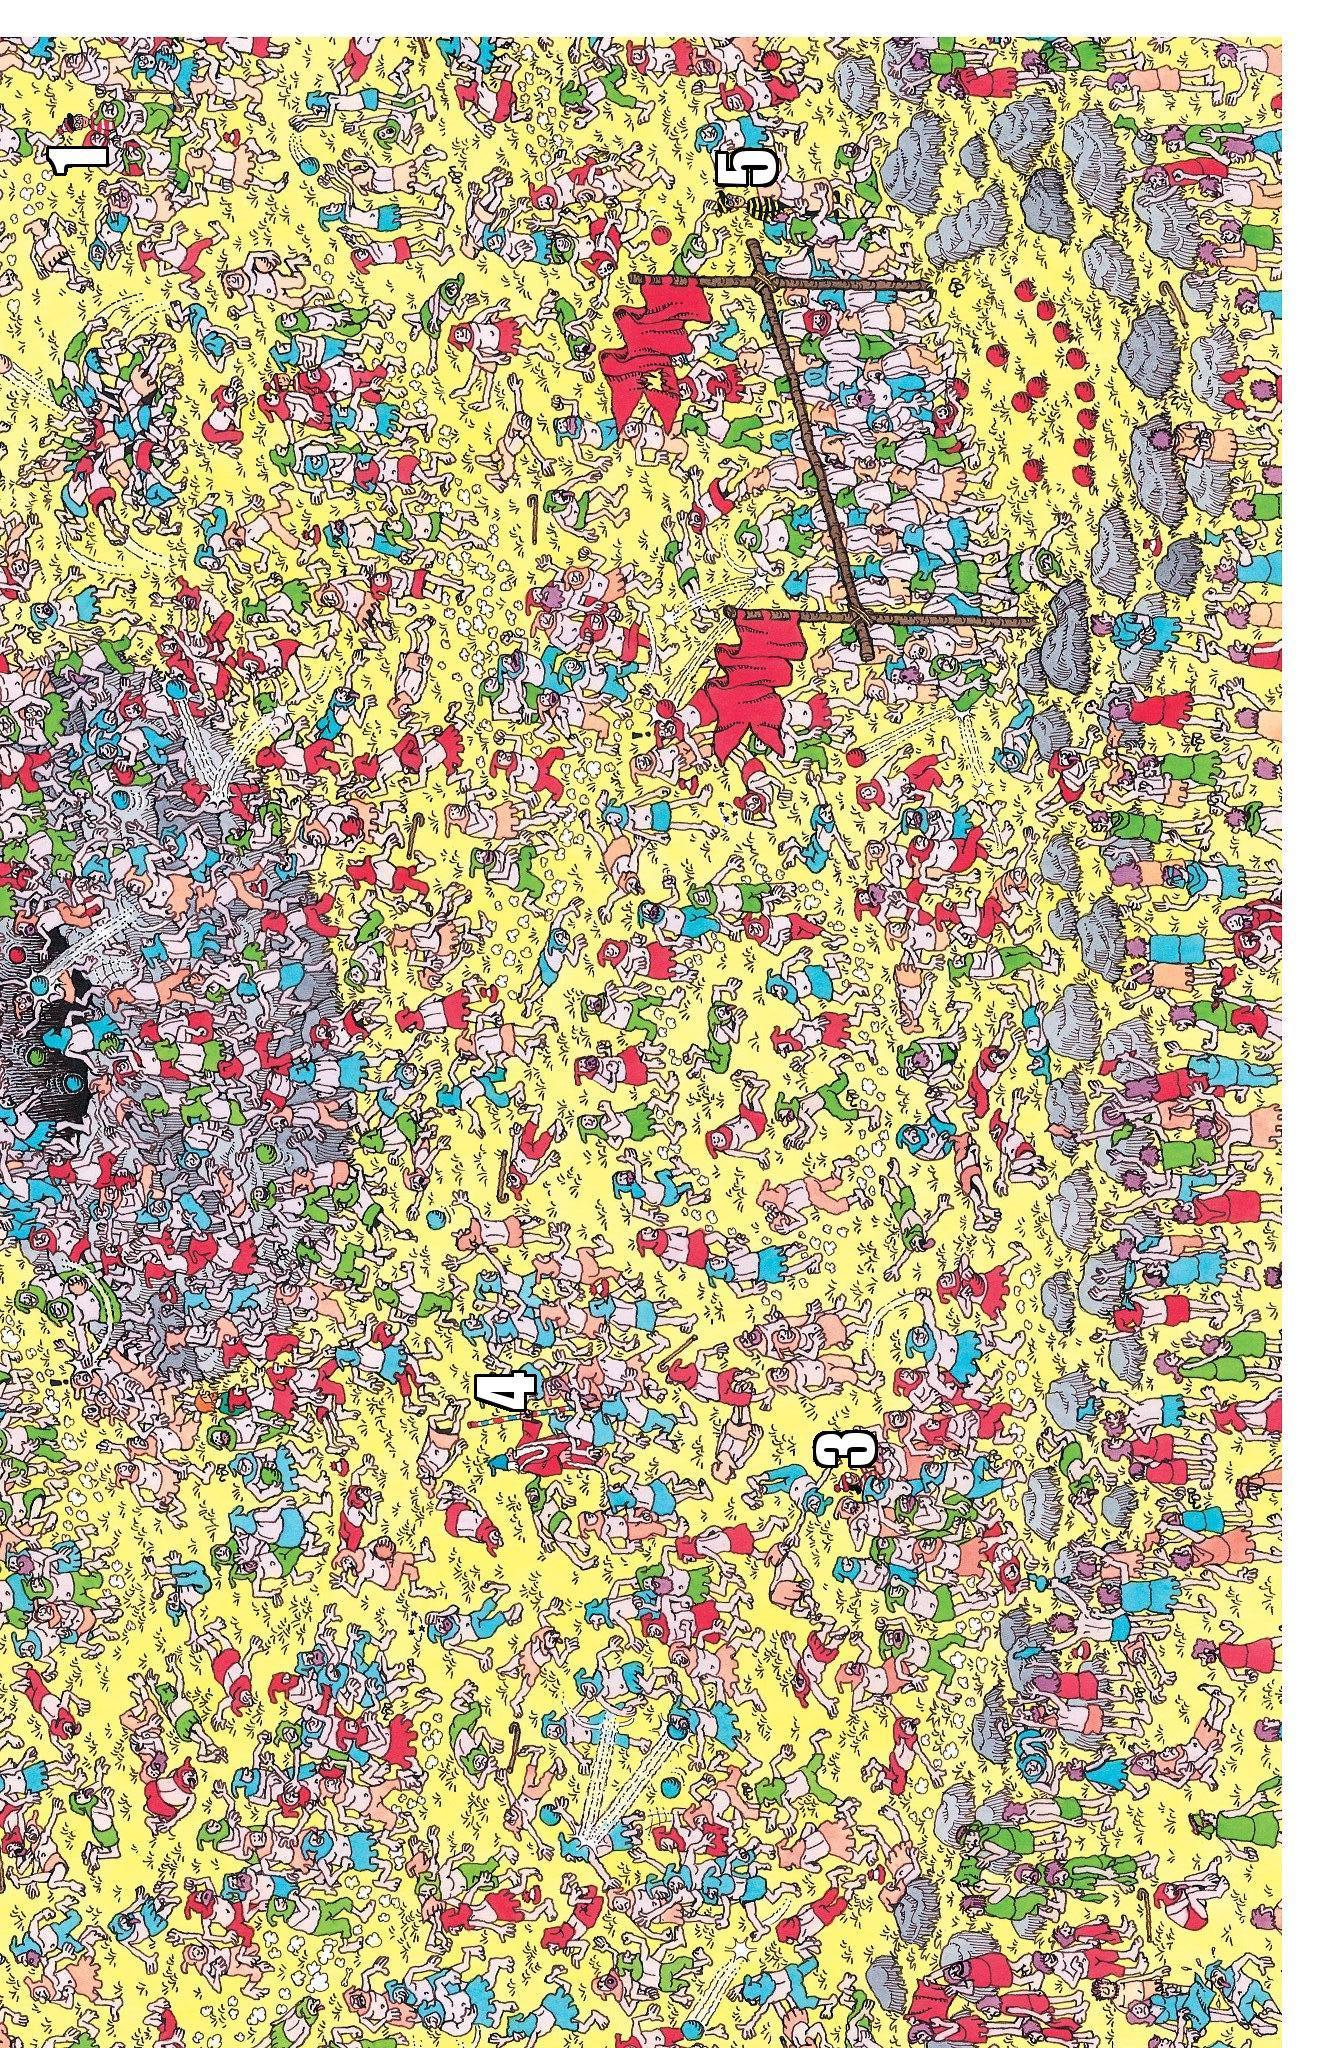waldos: (55, 104, 113, 137)
